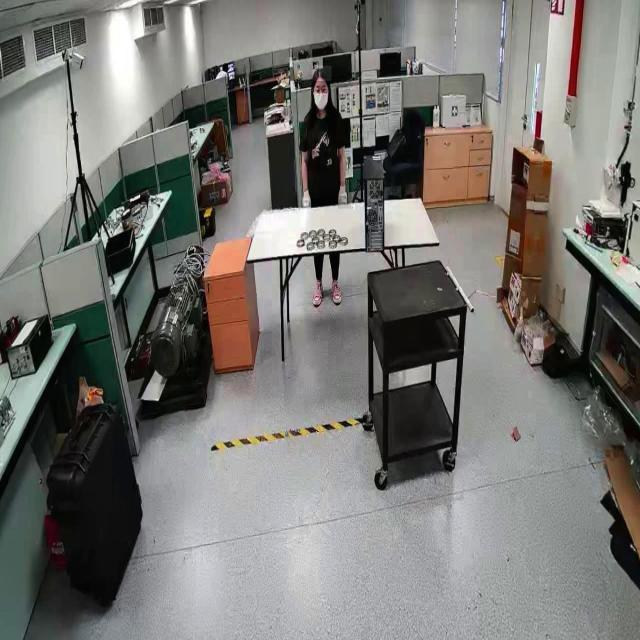face_mask: (316, 79, 330, 116)
hand_glove: (338, 181, 352, 210), (300, 182, 312, 212)
head_nohelmet: (312, 66, 332, 82)
person: (296, 76, 350, 206)
shoes: (312, 277, 325, 311), (329, 278, 343, 307)
